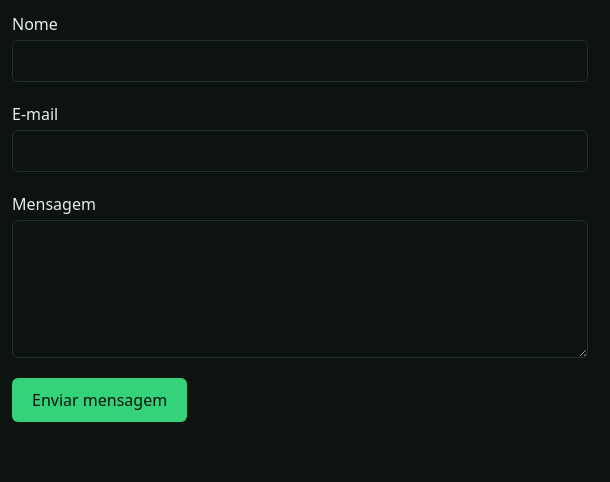
Test case: ContactForm › mostra a mensagem certa quando o servidor limita os envios
This screenshot has width=610, height=482.
Type "Ana" into the field labelled "Nome" at (300, 61), box [12, 40, 588, 82]
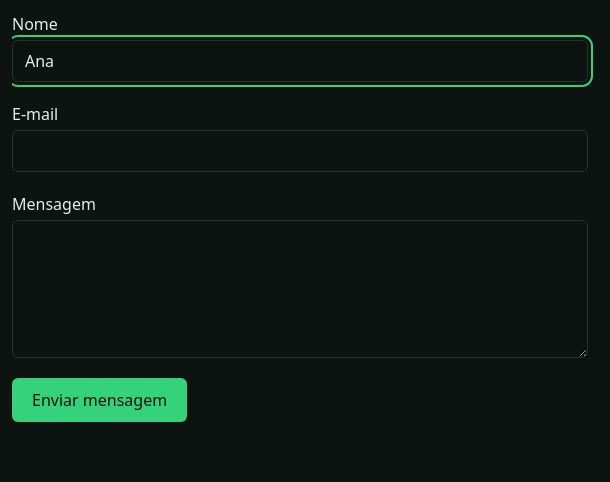
Type "ana@exemplo.com" into the field labelled "E-mail" at (300, 151), box [12, 130, 588, 172]
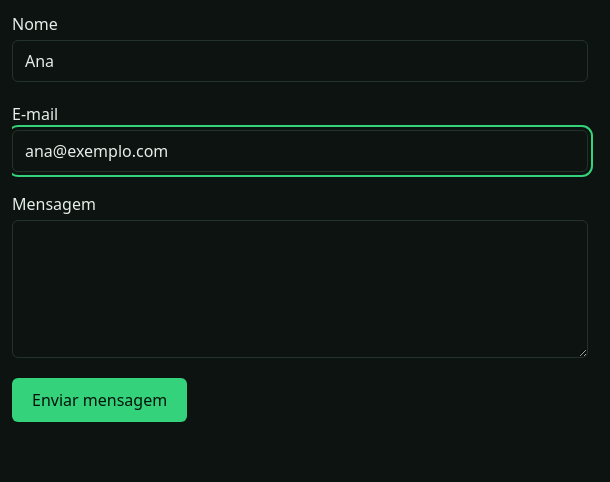
Type "Olá, vi seu portfólio." into the text box labelled "Mensagem" at (300, 289), box [12, 220, 588, 358]
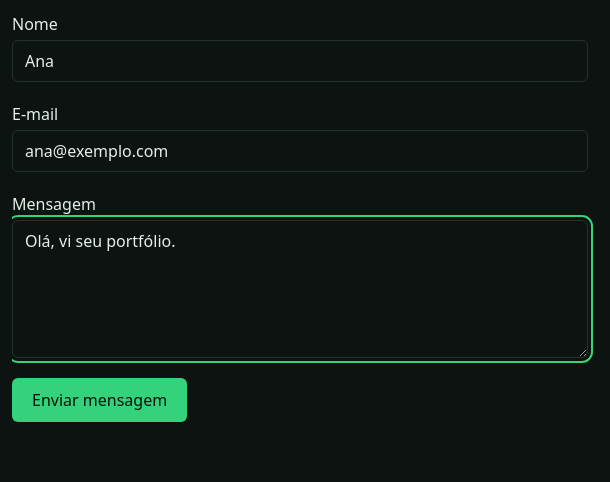
Click the button "Enviar mensagem" at (100, 400), box [12, 378, 187, 422]
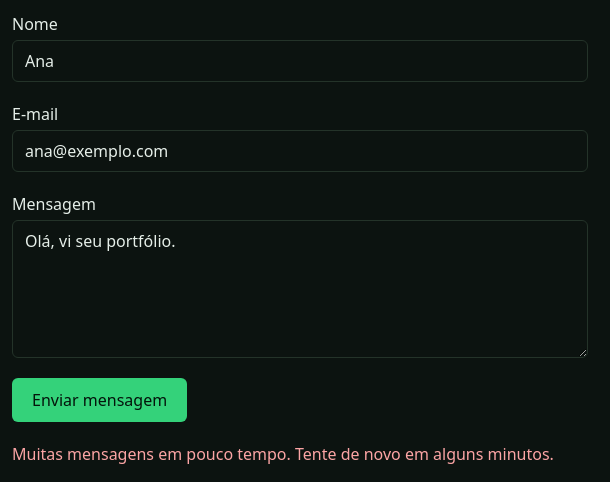
Now the message reads "Muitas mensagens em pouco tempo. Tente de novo em alguns minutos.", box [12, 443, 554, 465]
